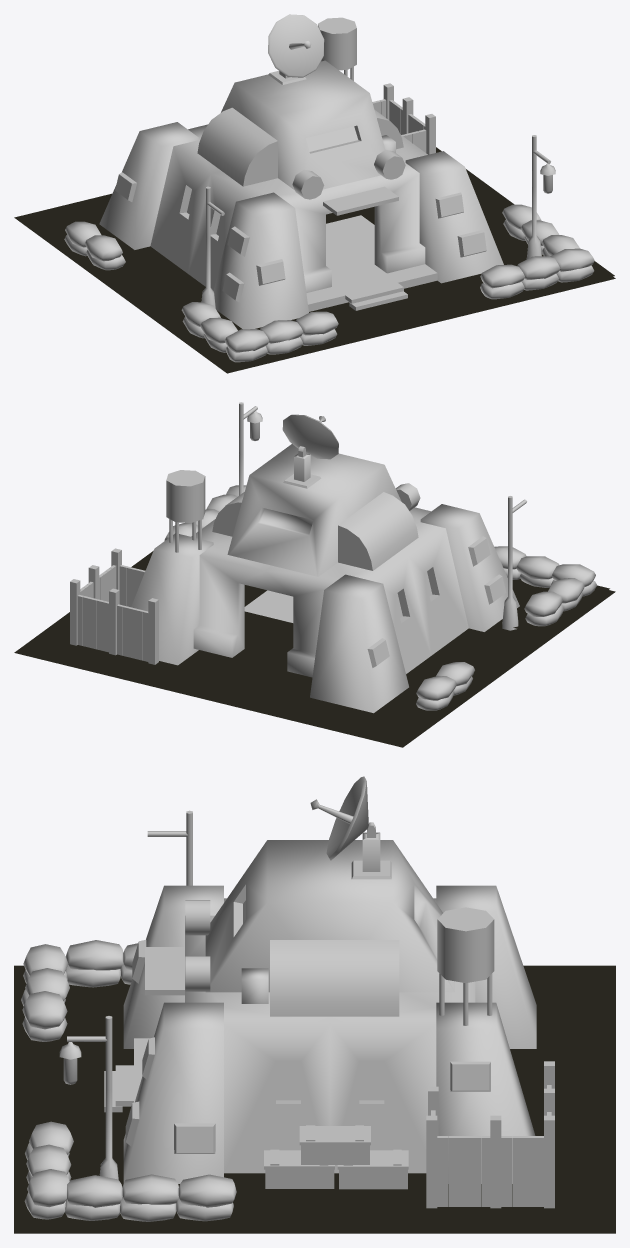
3 renders of one model, top to bottom at view 1: azimuth 30°, elevation 25°; view 2: azimuth 150°, elevation 25°; view 3: azimuth 270°, elevation 25°, orthographic. The views are drawn at different scales.
Visible parts, largest first — view 1: Box010, Plane032; view 2: Box010, Plane032; view 3: Box010, Plane032.
Part boxes in pixels (x1,y1,x2,y2): Box010: (64,14,594,362); Plane032: (14,147,615,373); Box010: (70,402,597,713); Plane032: (14,551,615,747); Box010: (21,776,554,1221); Plane032: (14,965,615,1233).
Bounding box in the file's own units: 1054 × 579 × 1000.
